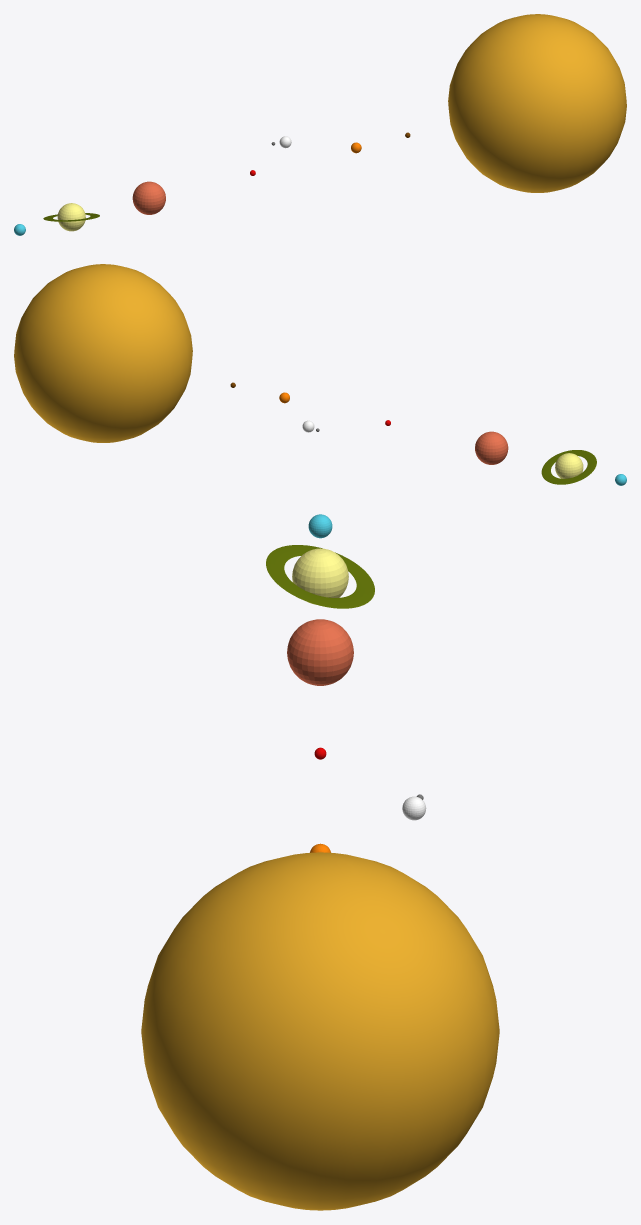
File: solsystem.glb
3 views of the same model, one above another, from view 1: azimuth 30°, elevation 25°; view 2: azimuth 150°, elevation 25°; view 3: azimuth 270°, elevation 25° (orthographic). The views are drawn at different scales.
Visible parts, largest first — view 1: sol, jupiter, saturn; view 2: sol, jupiter, saturn_ring, saturn; view 3: sol, jupiter, saturn_ring, saturn.
Part boxes in pixels (x1,y1,x2,y2): sol: (448,14,626,192); jupiter: (132,181,165,214); saturn: (57,203,85,231); sol: (14,264,192,442); jupiter: (475,431,508,464); saturn_ring: (541,450,596,484); saturn: (555,453,583,478); sol: (141,852,499,1210); jupiter: (287,619,353,685); saturn_ring: (266,545,374,608); saturn: (292,548,348,604).
Size of the model in its own units: 232 by 60 by 60.
